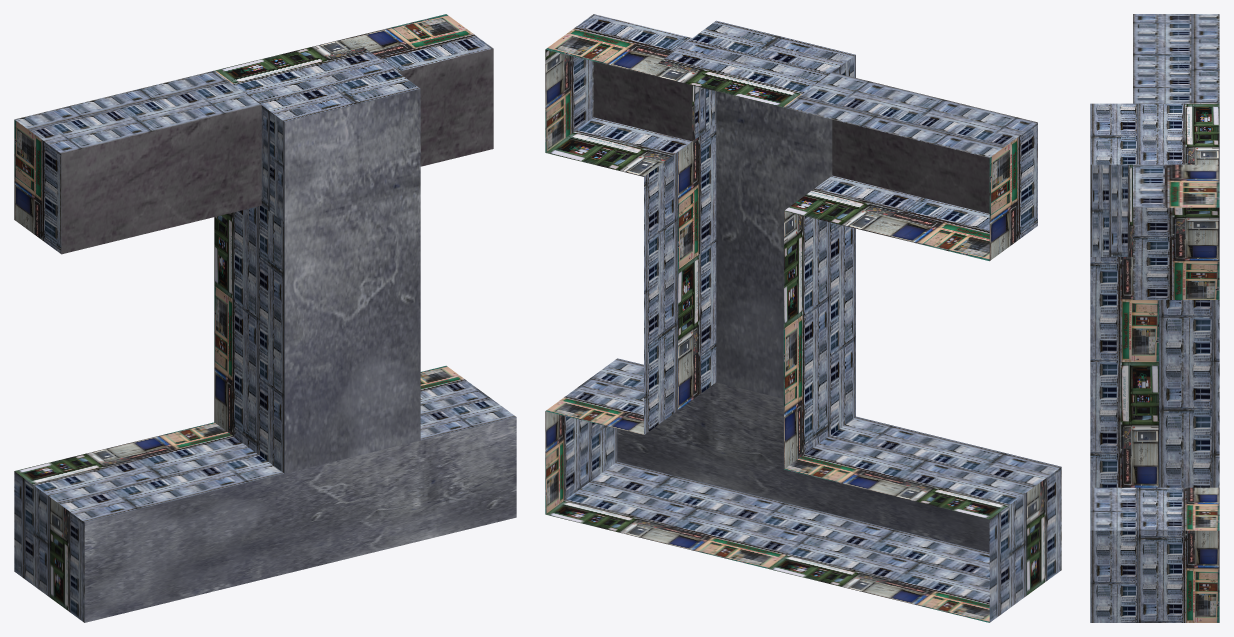
The model's file is urbanconc02a_wtf.obj.
3 renders of one model, left to right at view 1: azimuth 30°, elevation 25°; view 2: azimuth 150°, elevation 25°; view 3: azimuth 270°, elevation 25°, orthographic. The views are drawn at different scales.
Visible parts, largest first — view 1: group4, group3, group5; view 2: group3, group4, group5; view 3: group3.
Part boxes in pixels (x1,y1,x2,y2): group4: [84, 89, 516, 622]; group3: [14, 14, 515, 622]; group5: [61, 48, 493, 254]; group3: [545, 14, 1061, 622]; group4: [617, 91, 989, 552]; group5: [593, 61, 989, 213]; group3: [1090, 14, 1219, 622].
Size of the model in its own units: 660 by 660 by 186.
